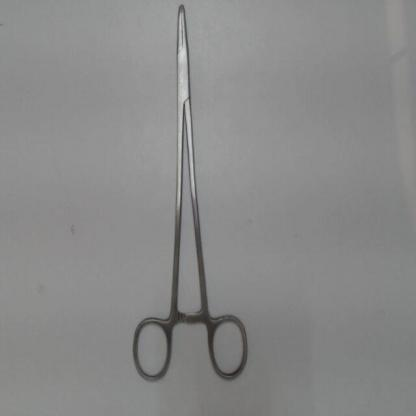8 Mayo Needle Holder: (125, 3, 252, 389)
